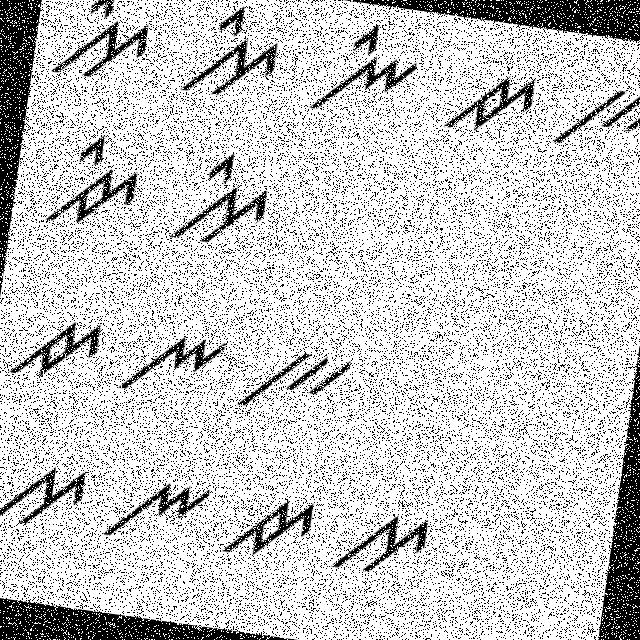ja: (434, 53, 546, 151), (1, 296, 108, 394), (220, 476, 320, 570)
ji: (31, 120, 150, 238)
nya: (103, 456, 219, 559), (115, 310, 232, 410)
nyi: (302, 13, 430, 126)
sa: (328, 490, 443, 586), (0, 440, 95, 546)
si: (168, 136, 283, 258), (173, 0, 288, 112), (50, 0, 163, 88)
